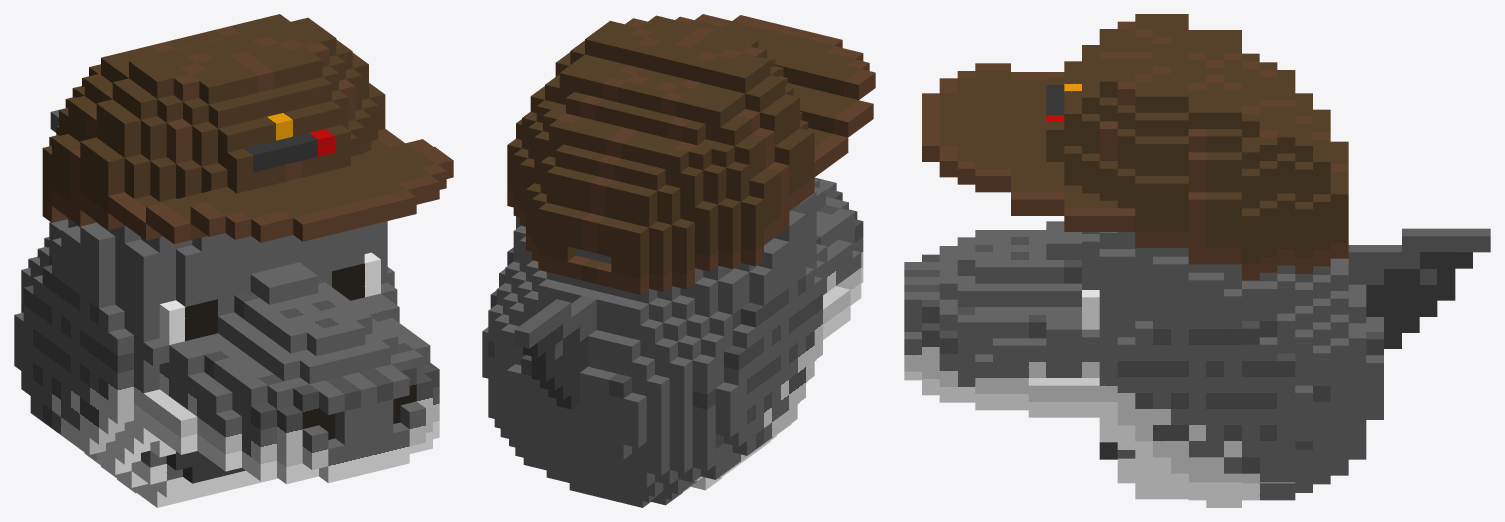
Rendered from wsb hat_lazer light.gltf.
The picture shows the model from 3 angles, left to right: view 1: azimuth 30°, elevation 25°; view 2: azimuth 150°, elevation 25°; view 3: azimuth 270°, elevation 25°; orthographic projection. The views are drawn at different scales.
Parts seen in each view (by area): view 1: C61_H_WSB_RedG_RBSpec_SkyD_LazerL_VRGg-Mesh; view 2: C61_H_WSB_RedG_RBSpec_SkyD_LazerL_VRGg-Mesh; view 3: C61_H_WSB_RedG_RBSpec_SkyD_LazerL_VRGg-Mesh.
Boxes of the visible parts, box(x1,y1,x2,y2) form: C61_H_WSB_RedG_RBSpec_SkyD_LazerL_VRGg-Mesh: box(14, 14, 453, 507); C61_H_WSB_RedG_RBSpec_SkyD_LazerL_VRGg-Mesh: box(482, 14, 875, 507); C61_H_WSB_RedG_RBSpec_SkyD_LazerL_VRGg-Mesh: box(904, 14, 1490, 507).
Bounding box in the file's own units: 17 × 26 × 33.
Materials: 1 (1 with a texture image).
